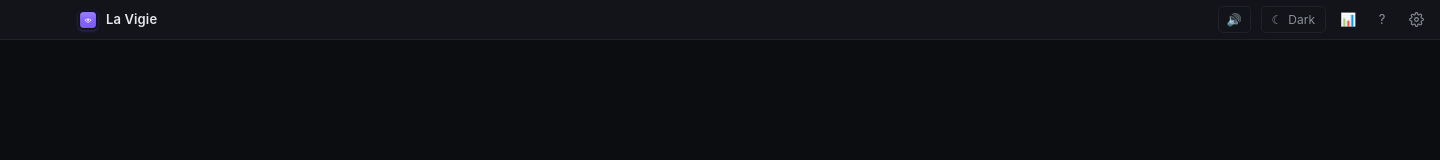
Test: TitleBar › toggling the theme flips the document data-theme attribute and the label
What coordinates should you click on to do the following:
click the button with aria-label "switch to light theme"
I would click on:
 (1293, 20)
Its box is [1260,6,1326,33].
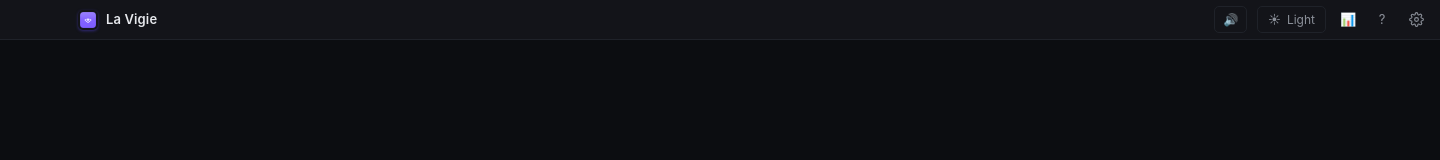
Result: the button with aria-label "switch to dark theme" is shown at [1257,6,1326,33]
